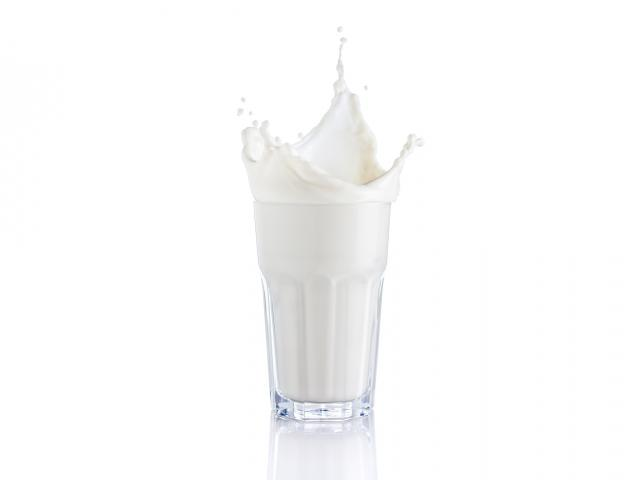glass of milk: (243, 133, 397, 437)
